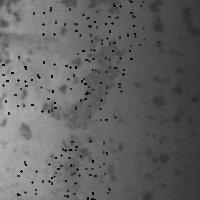pitted_surface: (122, 40, 198, 198), (44, 20, 127, 130), (42, 124, 123, 191), (1, 1, 35, 152), (48, 140, 108, 200), (65, 65, 122, 120), (76, 11, 130, 69), (0, 56, 54, 112), (105, 0, 160, 44), (17, 161, 74, 200), (33, 0, 87, 33)
